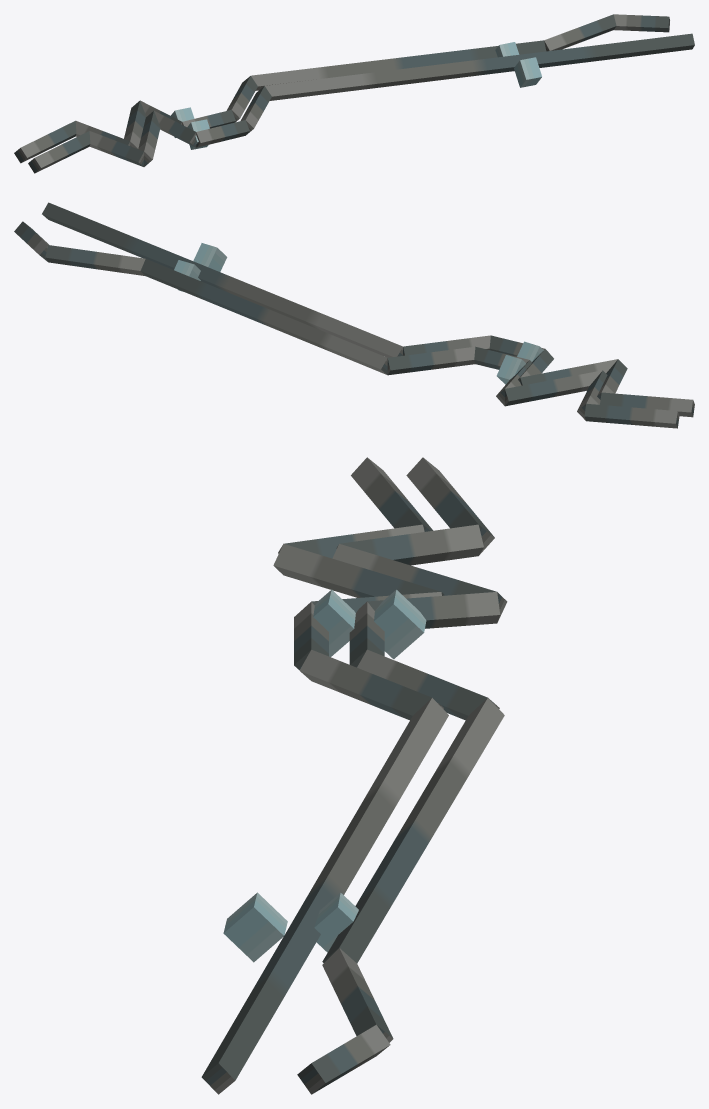
The model's file is pz_native_electrical_184.obj.
3 renders of one model, top to bottom at view 1: azimuth 30°, elevation 25°; view 2: azimuth 150°, elevation 25°; view 3: azimuth 270°, elevation 25°, orthographic. The views are drawn at different scales.
Visible parts, largest first — view 1: conduit, conduit_end; view 2: conduit, conduit_end; view 3: conduit, conduit_end.
Part boxes in pixels (x1=…): conduit: x1=21, y1=14, x2=694, y2=172; conduit_end: x1=14, y1=17, x2=669, y2=173; conduit: x1=14, y1=202, x2=692, y2=428; conduit_end: x1=39, y1=246, x2=694, y2=427; conduit: x1=202, y1=457, x2=504, y2=1093; conduit_end: x1=201, y1=525, x2=507, y2=1094.
Bounding box in the file's own units: 0.9953 × 0.042 × 0.21.
1 material, 1 textured.
